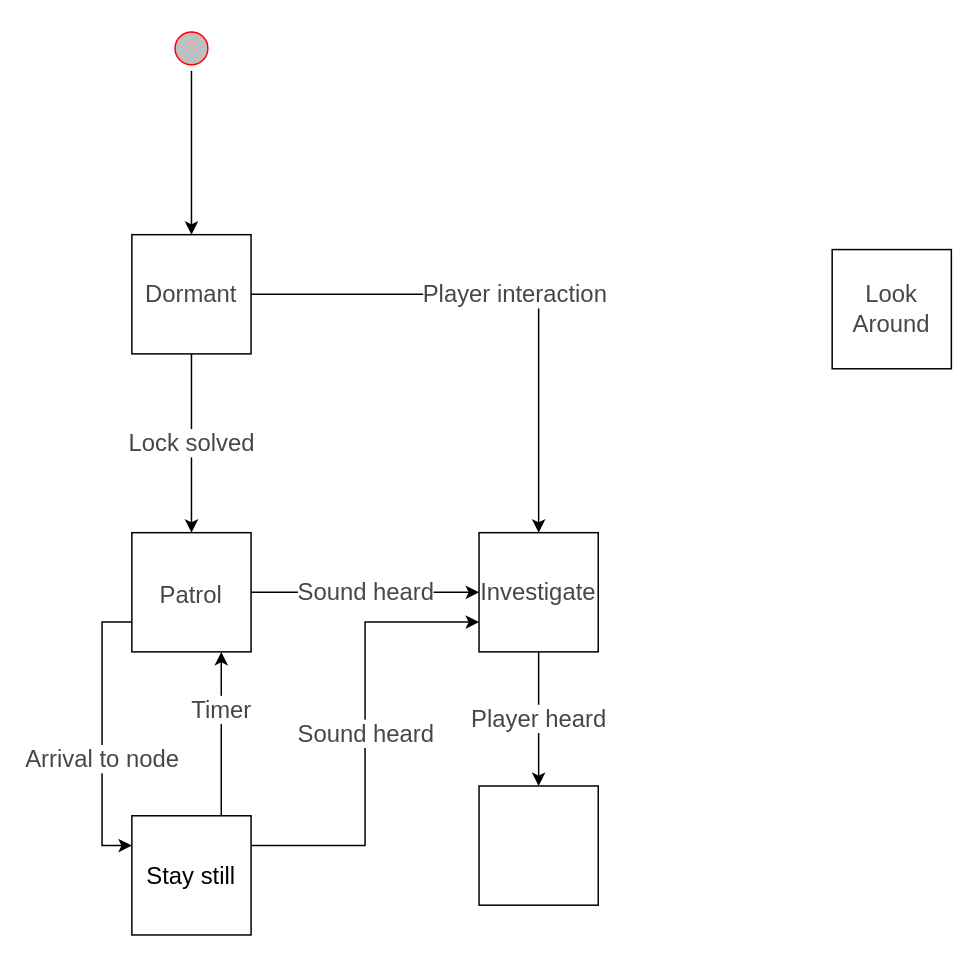
The diagram is 977 pixels wide and 961 high, and some of its shapes have lost their labels. Each missing label, with the centre of its shape:
"Attack Player" goes at pixel 538 844.
"Start" goes at pixel 191 48.
